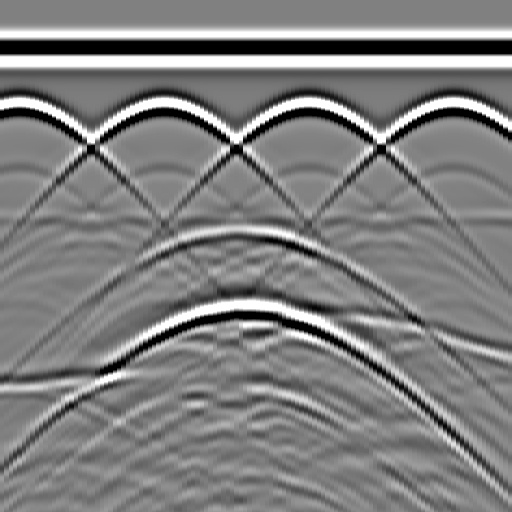grout_surface: (1, 205, 512, 235)
rebar: (142, 86, 182, 126), (286, 86, 326, 126), (430, 86, 470, 126)
rock_surface: (1, 315, 511, 388)
water_void: (211, 207, 271, 247)
